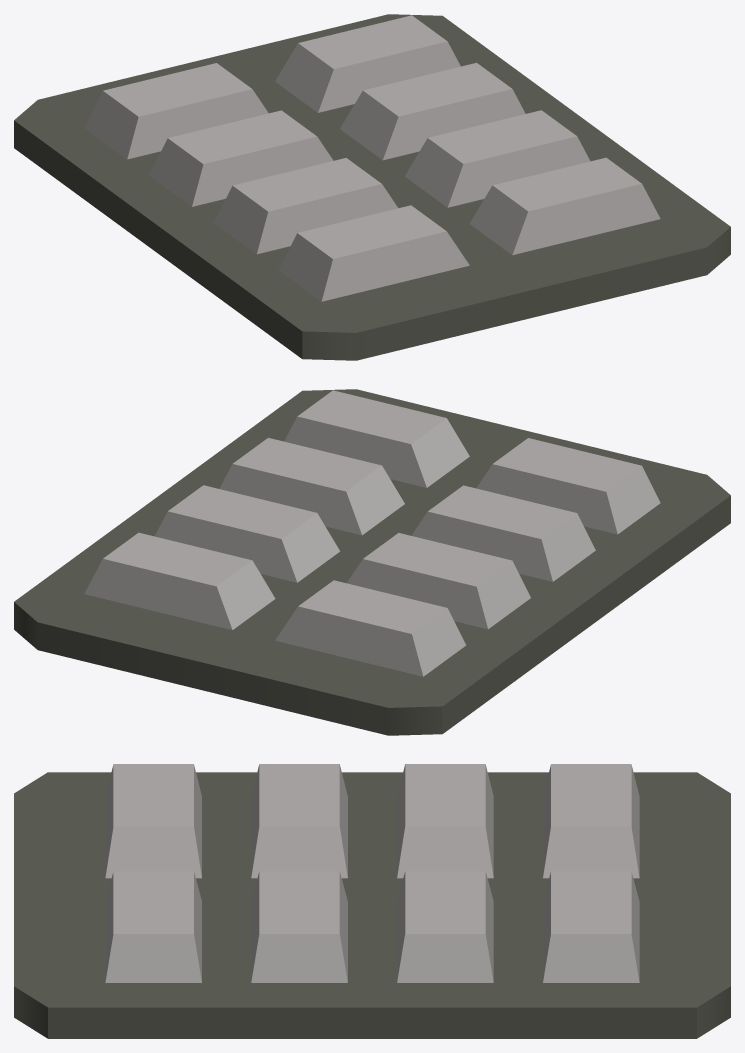
File: SM_Prop_Pills_02.fbx
3 renders of one model, top to bottom at view 1: azimuth 30°, elevation 25°; view 2: azimuth 150°, elevation 25°; view 3: azimuth 270°, elevation 25°, orthographic. The views are drawn at different scales.
Parts seen in each view (by area): view 1: SM_Prop_Pills_02; view 2: SM_Prop_Pills_02; view 3: SM_Prop_Pills_02.
Boxes of the visible parts, x1,y1,x2,y2 form: SM_Prop_Pills_02: [14, 14, 730, 360]; SM_Prop_Pills_02: [14, 389, 730, 735]; SM_Prop_Pills_02: [14, 764, 730, 1038].
Bounding box in the file's own units: 14.89 × 2.13 × 19.16.
